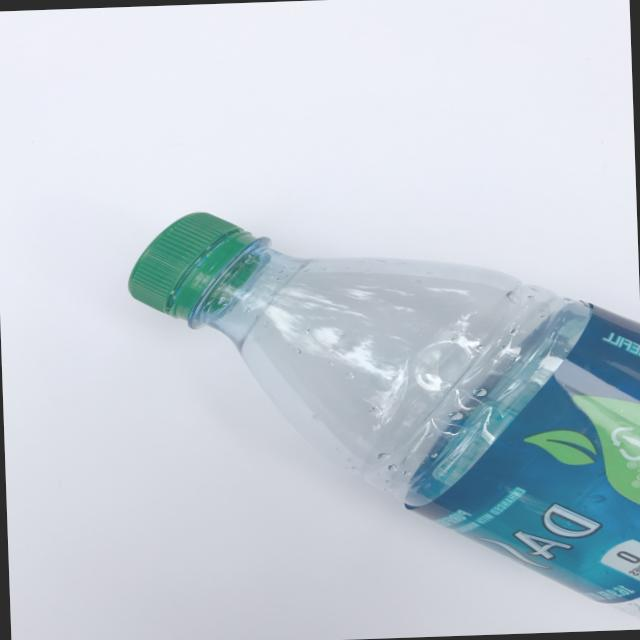Plastic: (110, 106, 640, 640)
